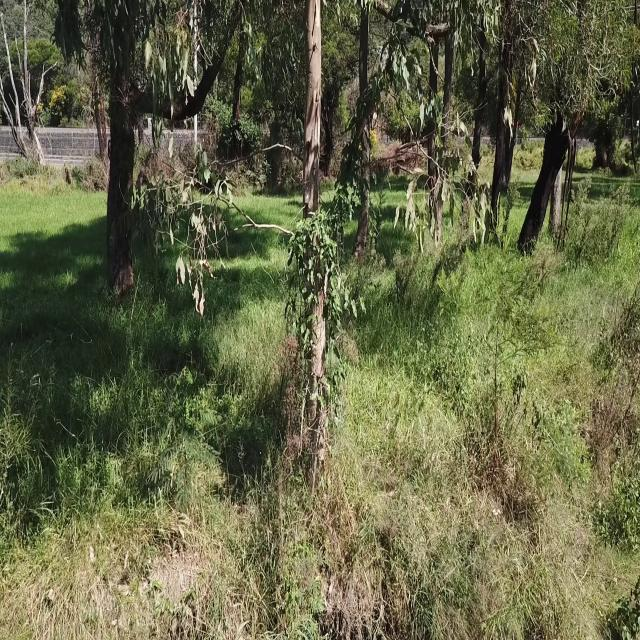Mysore-Thorn-Weed: (148, 359, 224, 522)
